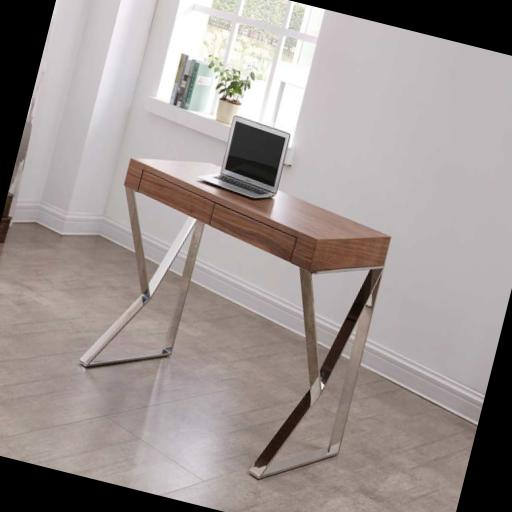desk: (60, 142, 400, 496)
wall: (0, 0, 512, 431)
